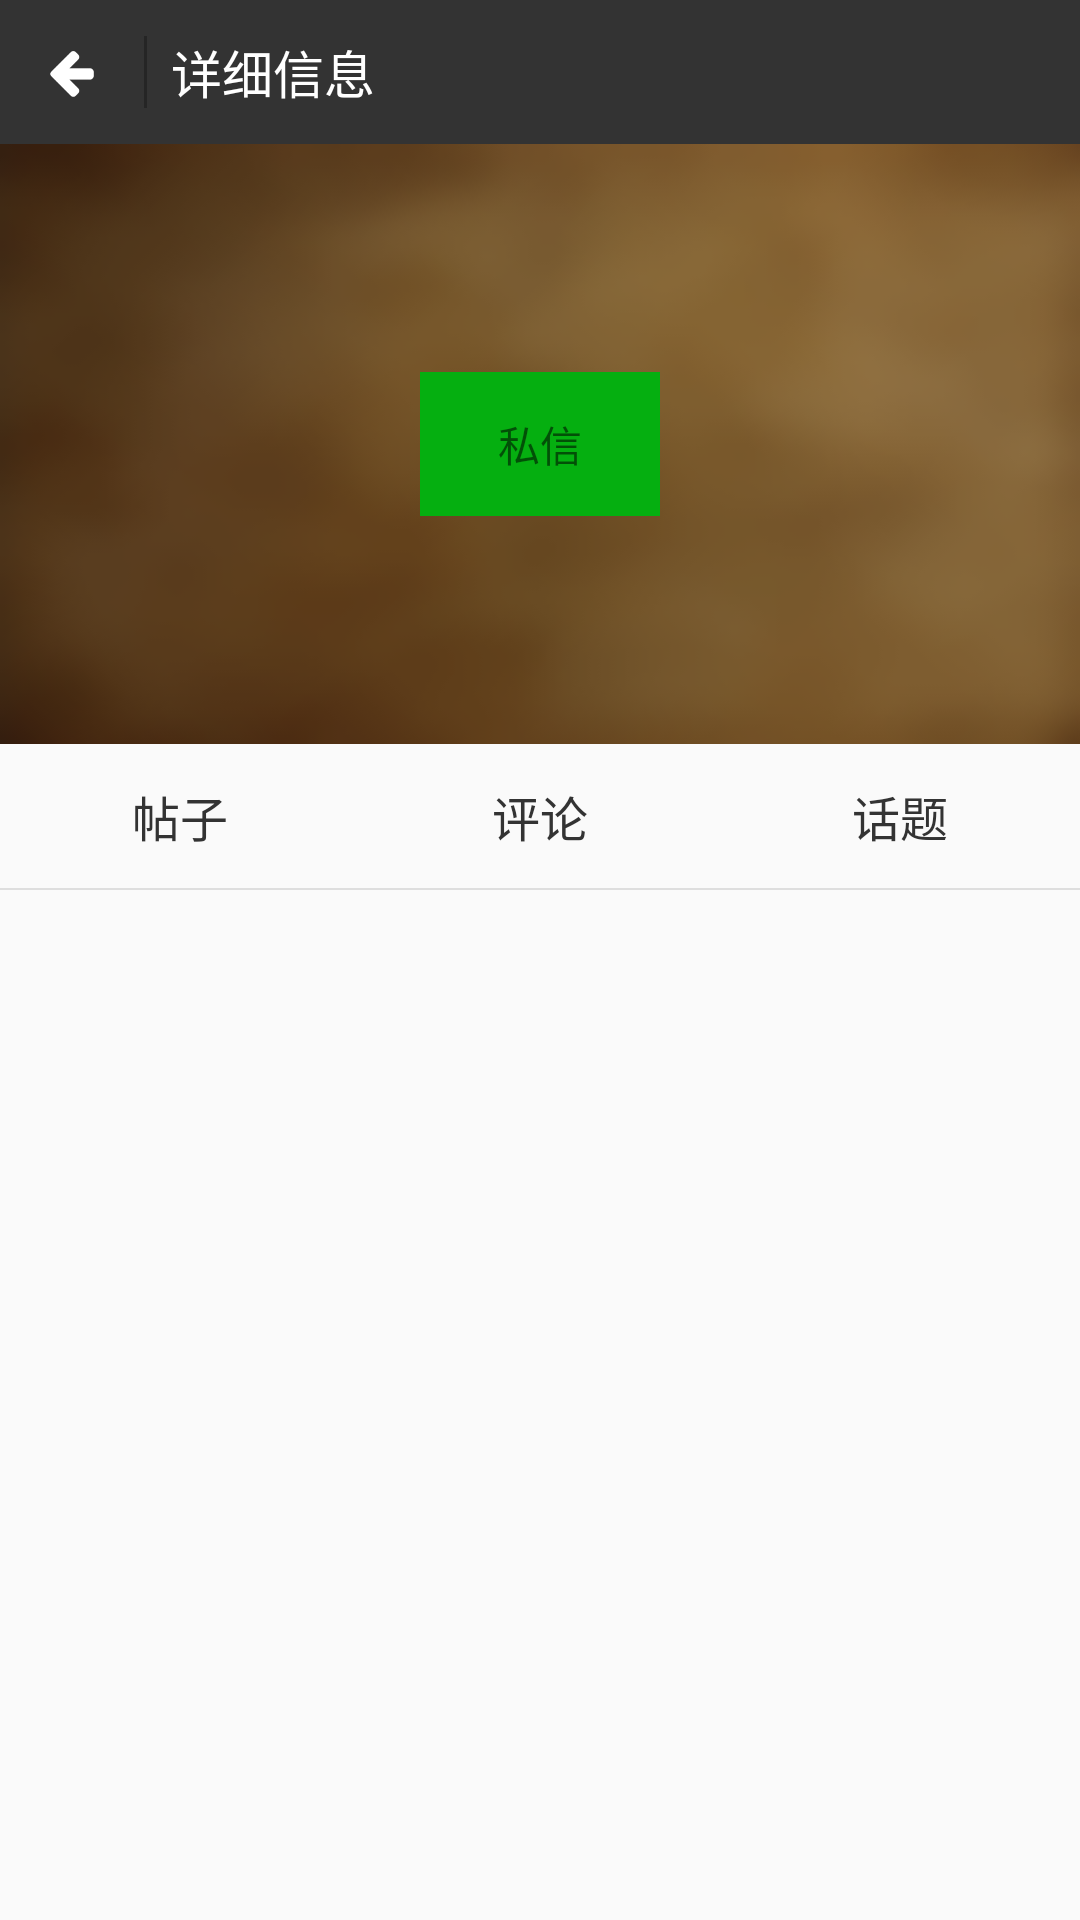

Named icons in this screenshot (1080px×1920px) and their bounding boxes, (x1, y1, x2, y2):
back: (50, 51, 94, 97)
